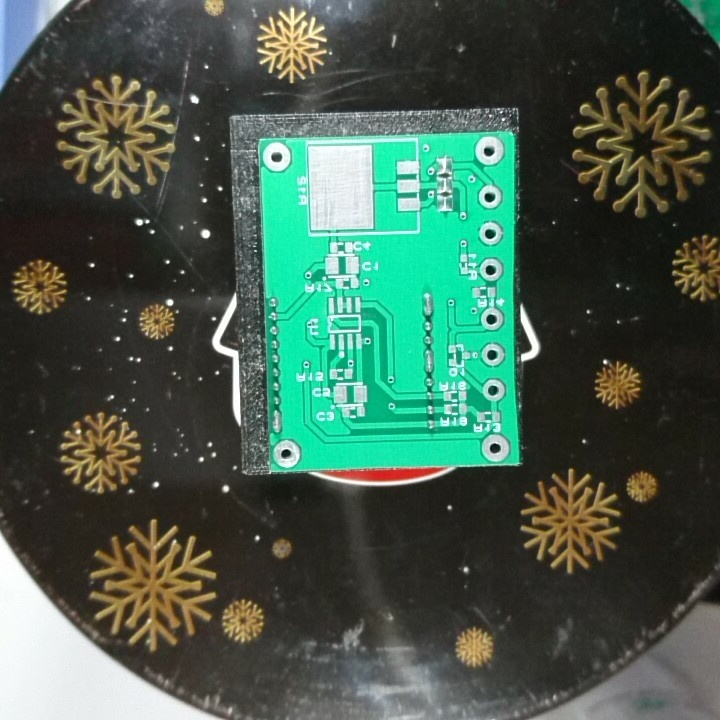F: (260, 139, 293, 174), (474, 135, 507, 168), (479, 431, 511, 464), (269, 438, 302, 470), (475, 219, 506, 247), (476, 183, 505, 211), (478, 304, 507, 332), (478, 342, 507, 370), (477, 256, 505, 283), (479, 378, 509, 403)
P: (420, 289, 437, 319), (269, 406, 285, 435), (422, 347, 437, 375)
